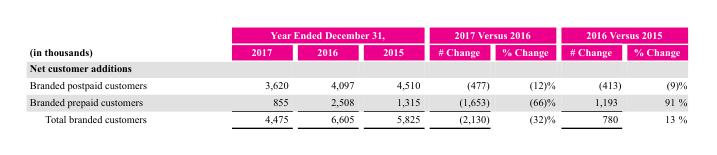table: (28, 28, 686, 124)
table column: (28, 28, 198, 124), (198, 28, 301, 124), (494, 28, 562, 124), (301, 28, 367, 124), (428, 28, 494, 124), (562, 28, 626, 124), (367, 28, 428, 124), (626, 28, 686, 124)
table column header: (28, 28, 686, 59)
table projected row header: (28, 59, 686, 76)
table row: (28, 42, 686, 59), (28, 59, 686, 76), (28, 76, 686, 93), (28, 93, 686, 109), (28, 109, 686, 124), (28, 28, 686, 42)
table spanning cell: (28, 28, 198, 59), (198, 28, 428, 42), (428, 28, 562, 42), (562, 28, 686, 42)
